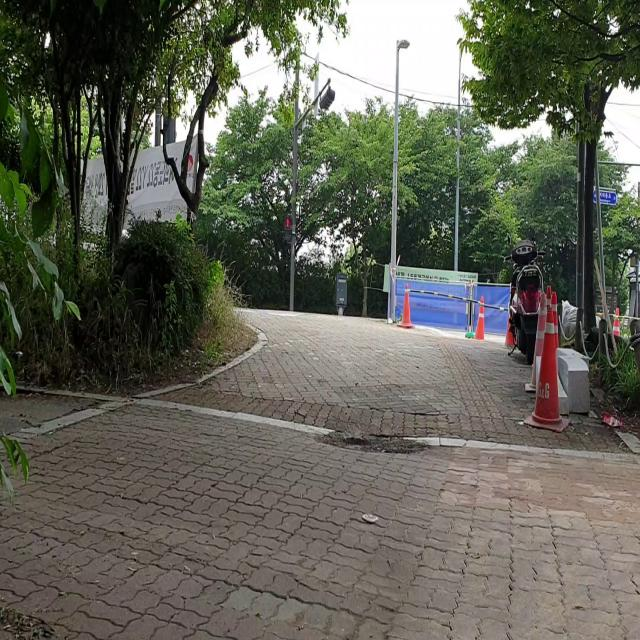빨간불: (282, 215, 293, 243)
